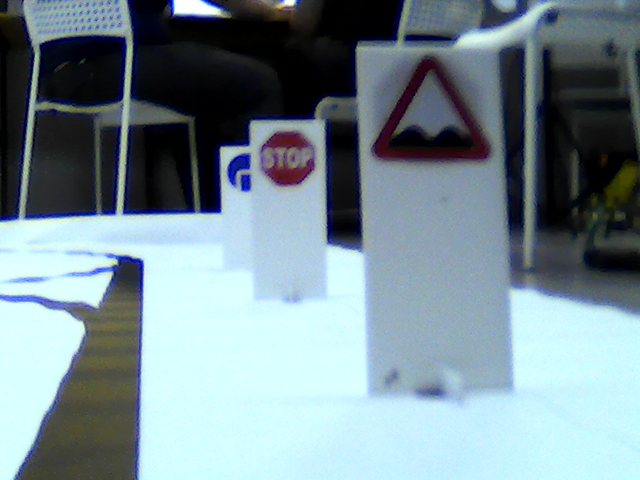Nerov: (371, 53, 492, 168)
Stop: (256, 128, 316, 186)
